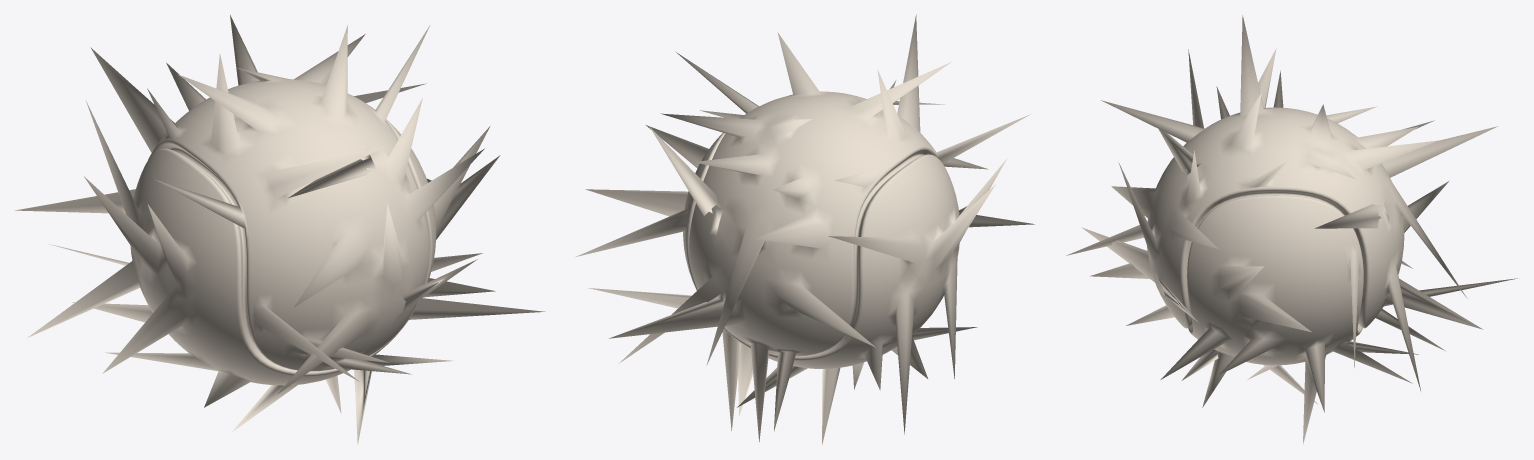
File: RollerBall_yup.fbx
3 renders of one model, left to right at view 1: azimuth 30°, elevation 25°; view 2: azimuth 150°, elevation 25°; view 3: azimuth 270°, elevation 25°, orthographic. The views are drawn at different scales.
Parts seen in each view (by area): view 1: RollerBall; view 2: RollerBall; view 3: RollerBall.
Boxes of the visible parts, x1=… form: RollerBall: x1=15, y1=15, x2=545, y2=444; RollerBall: x1=576, y1=14, x2=1034, y2=444; RollerBall: x1=1066, y1=15, x2=1517, y2=444.
Bounding box in the file's own units: 164 × 150 × 176.
